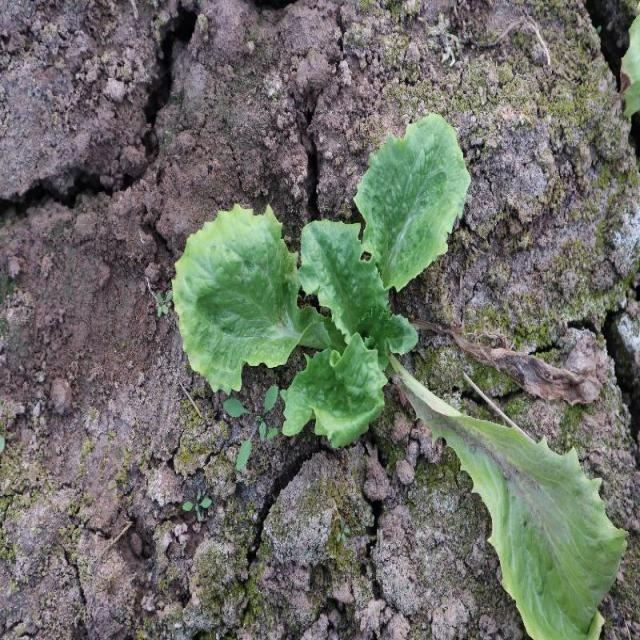crop: (172, 112, 629, 640)
